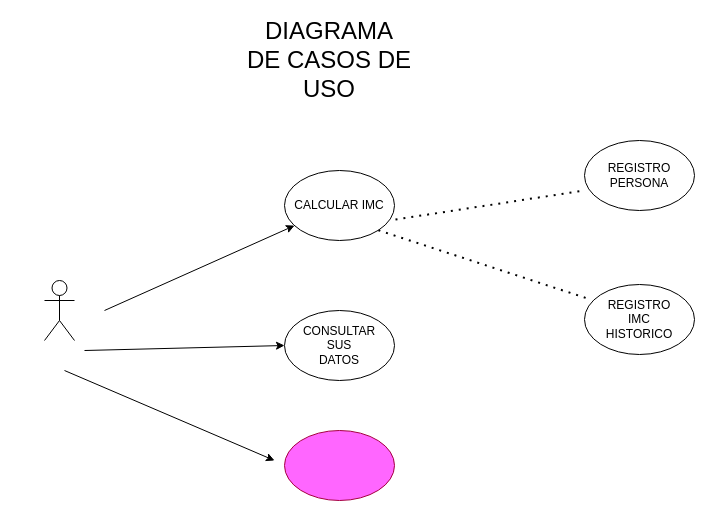
The diagram is 712 pixels wide and 518 high, and some of its shapes have lost their labels. The centre of each missing label's shape, as x and y in pixels:
CONSULTAR RANGO PESO: point (339, 465)
USUARIO WEB: point (59, 310)
